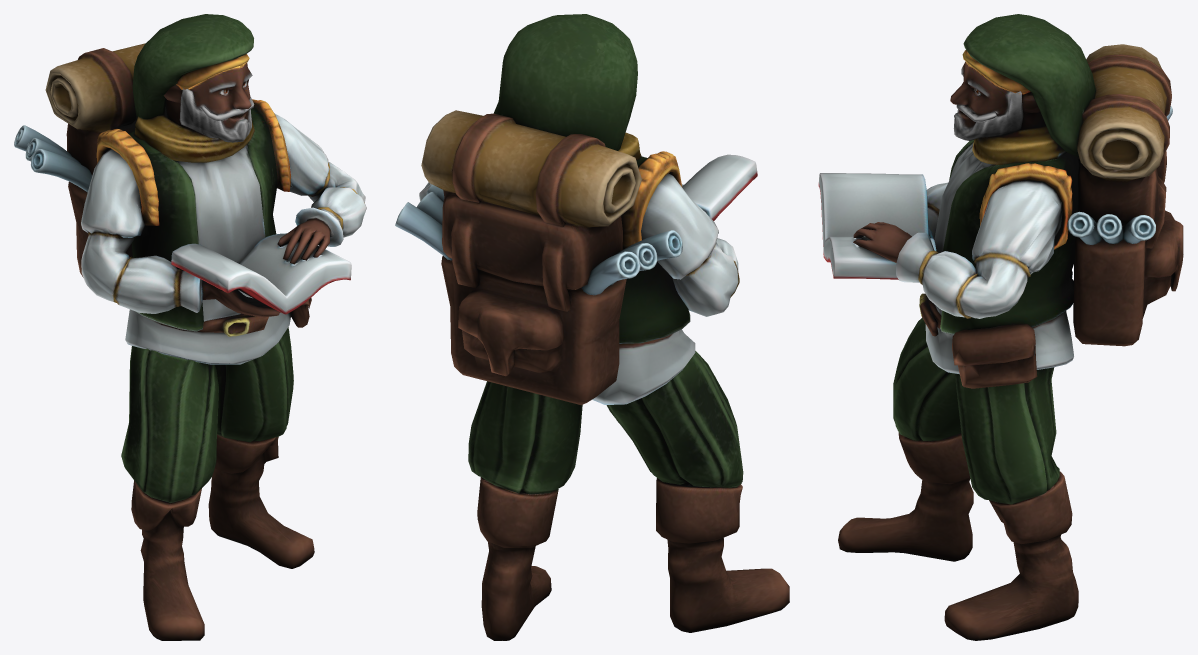
The model's file is MZ4250 - Human Mapmaking Merchant.glb.
3 renders of one model, left to right at view 1: azimuth 30°, elevation 25°; view 2: azimuth 150°, elevation 25°; view 3: azimuth 270°, elevation 25°, orthographic. The views are drawn at different scales.
Parts seen in each view (by area): view 1: body_low.001, backpack_low.001, book_low.001, papers_low.001; view 2: body_low.001, backpack_low.001, papers_low.001, book_low.001; view 3: body_low.001, backpack_low.001, book_low.001, papers_low.001.
Boxes of the visible parts, box(x1,y1,x2,y2) form: body_low.001: box(81, 14, 366, 640); backpack_low.001: box(45, 43, 145, 277); book_low.001: box(171, 233, 351, 314); papers_low.001: box(14, 125, 92, 192); body_low.001: box(419, 14, 789, 640); backpack_low.001: box(421, 110, 641, 405); papers_low.001: box(395, 184, 682, 295); book_low.001: box(641, 154, 757, 220); body_low.001: box(838, 14, 1095, 640); backpack_low.001: box(1073, 44, 1183, 346); book_low.001: box(818, 173, 936, 279); papers_low.001: box(1067, 106, 1172, 244).
Bounding box in the file's own units: 3.06 × 5.75 × 3.31.
Materials: 1 (1 with a texture image).
